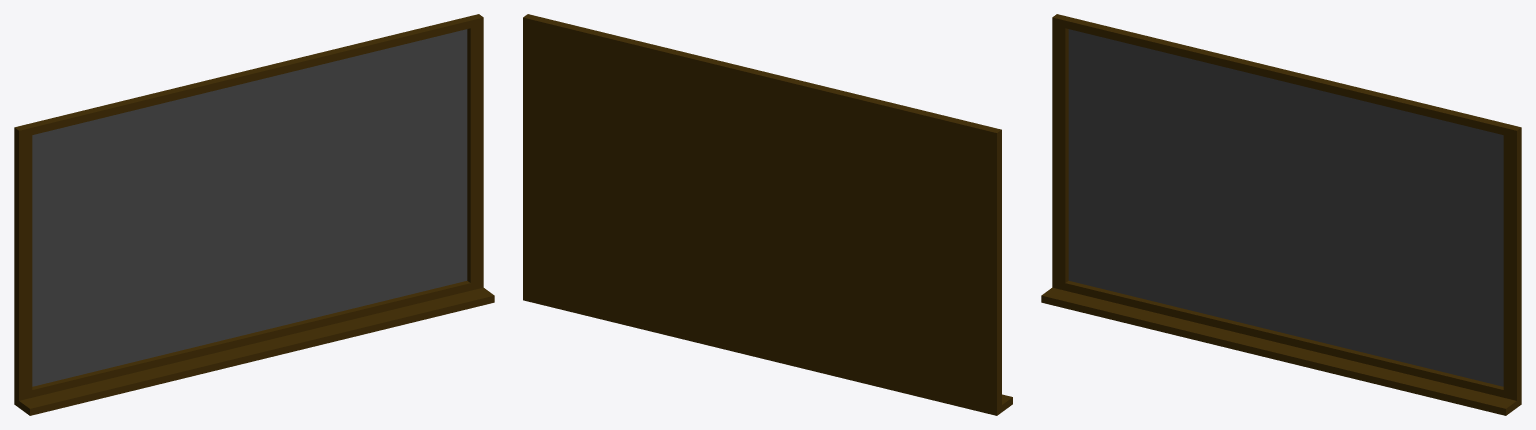
The model's file is Blackboard_Blockout.fbx.
3 views of the same model, side by side, from view 1: azimuth 30°, elevation 25°; view 2: azimuth 150°, elevation 25°; view 3: azimuth 330°, elevation 25° (orthographic). The views are drawn at different scales.
Visible parts, largest first — view 1: Blackboard_Blockout; view 2: Blackboard_Blockout; view 3: Blackboard_Blockout.
Boxes of the visible parts, left/top/right/bottom form: Blackboard_Blockout: left=14, top=14, right=494, bottom=415; Blackboard_Blockout: left=523, top=14, right=1012, bottom=415; Blackboard_Blockout: left=1041, top=14, right=1521, bottom=415.
Bounding box in the file's own units: 270 × 154 × 15.75.
